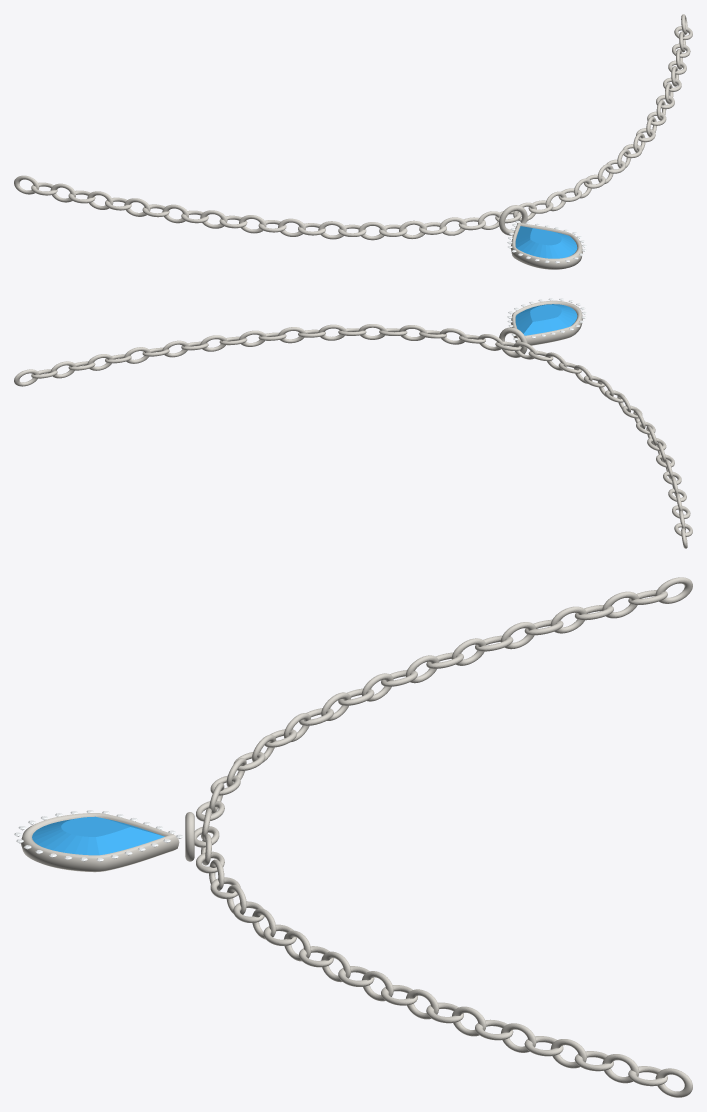
File: necklace.glb
3 renders of one model, top to bottom at view 1: azimuth 30°, elevation 25°; view 2: azimuth 150°, elevation 25°; view 3: azimuth 270°, elevation 25°, orthographic. The views are drawn at different scales.
Visible parts, largest first — view 1: 水滴形主寶石, 金屬鑲邊; view 2: 水滴形主寶石, 金屬鑲邊; view 3: 水滴形主寶石, 金屬鑲邊.
Part boxes in pixels (x1=…): 水滴形主寶石: x1=515, y1=226, x2=577, y2=258; 金屬鑲邊: x1=511, y1=222, x2=582, y2=269; 水滴形主寶石: x1=515, y1=304, x2=577, y2=335; 金屬鑲邊: x1=511, y1=300, x2=582, y2=346; 水滴形主寶石: x1=32, y1=816, x2=164, y2=855; 金屬鑲邊: x1=21, y1=813, x2=179, y2=872.
Size of the model in its own units: 4.7 by 0.215 by 2.68.
